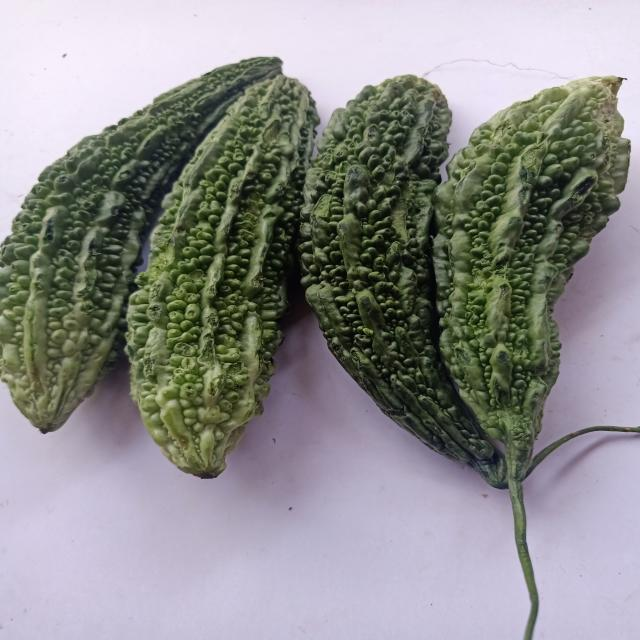Bitter Gourd: (0, 44, 303, 443), (432, 71, 634, 557), (295, 66, 513, 496), (121, 74, 322, 492)
